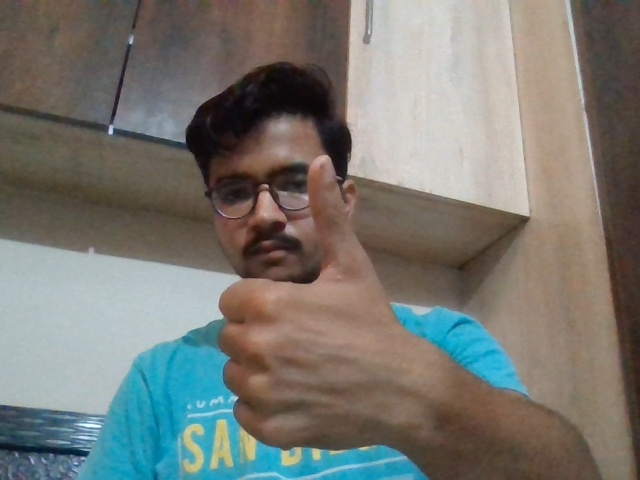yes: (193, 139, 416, 455)
